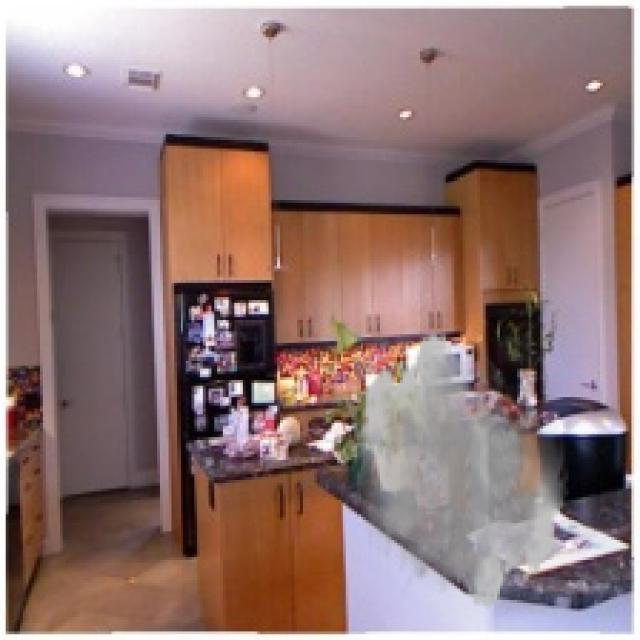smoke: (352, 328, 568, 612)
